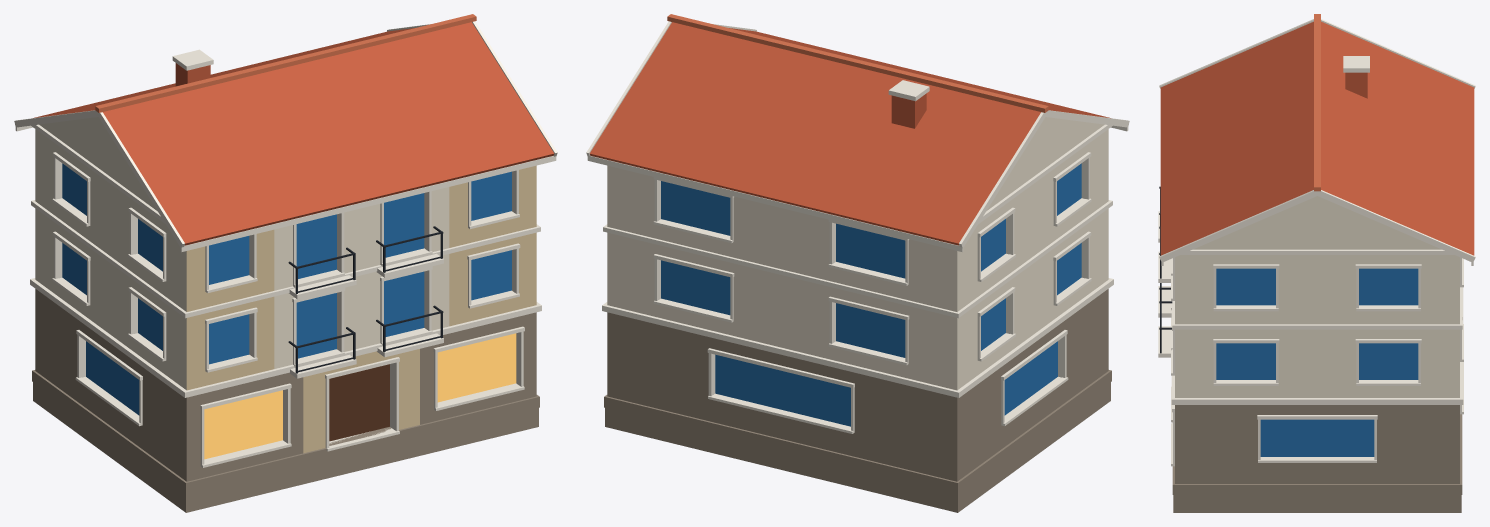
Rendered from 07b_midrise_gabled-lod1.glb.
The picture shows the model from 3 angles, left to right: view 1: azimuth 30°, elevation 25°; view 2: azimuth 150°, elevation 25°; view 3: azimuth 270°, elevation 25°; orthographic projection. The views are drawn at different scales.
Parts seen in each view (by area): view 1: MidriseGabled_LOD1; view 2: MidriseGabled_LOD1; view 3: MidriseGabled_LOD1.
Part boxes in pixels (left/top/right/bottom): MidriseGabled_LOD1: left=14, top=14, right=557, bottom=512; MidriseGabled_LOD1: left=586, top=14, right=1129, bottom=512; MidriseGabled_LOD1: left=1158, top=14, right=1475, bottom=512.
Size of the model in its own units: 14.68 by 13.3 by 11.37.
Materials: 2 (2 with a texture image).
